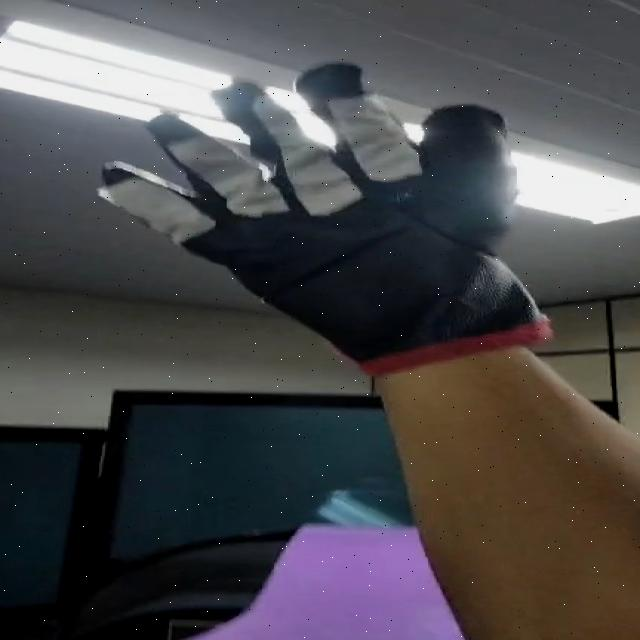Gloves: (88, 64, 559, 380)
